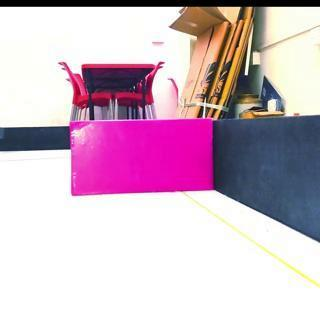xparking: (70, 120, 214, 194)
